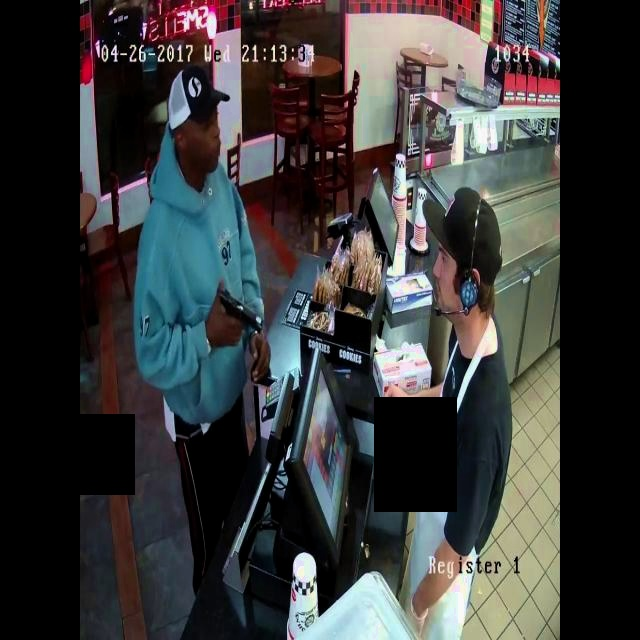gun: (201, 277, 275, 343)
